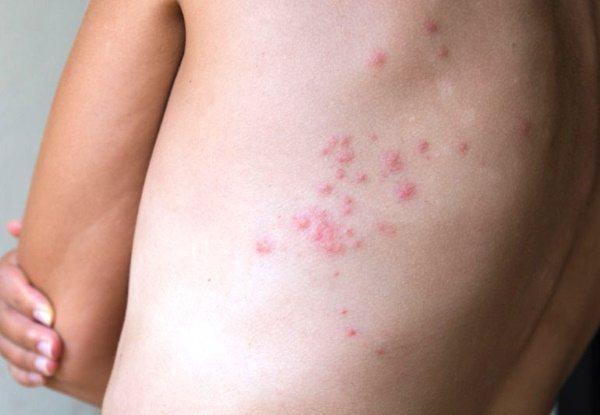Fleas: (305, 122, 440, 254), (294, 200, 362, 266), (242, 231, 298, 287), (318, 132, 376, 183), (414, 12, 465, 69), (386, 147, 427, 202), (357, 44, 402, 86)
